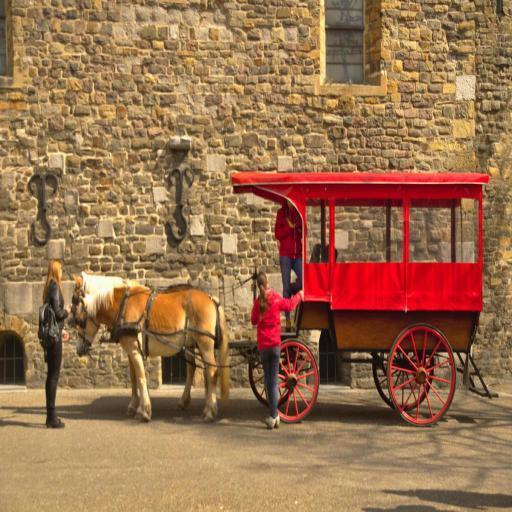horse: (74, 284, 230, 424), (66, 268, 196, 422)
